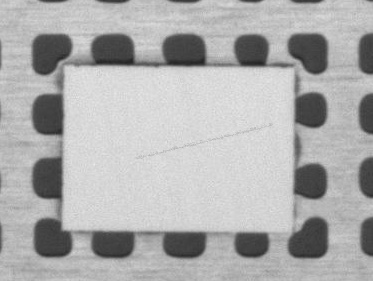DIE_CRACK: (181, 94, 360, 119)
